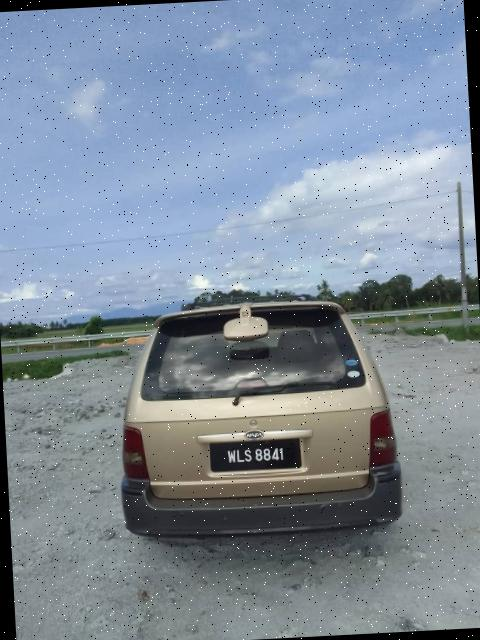License_Plate: (214, 441, 301, 477)
car: (107, 291, 406, 544)
